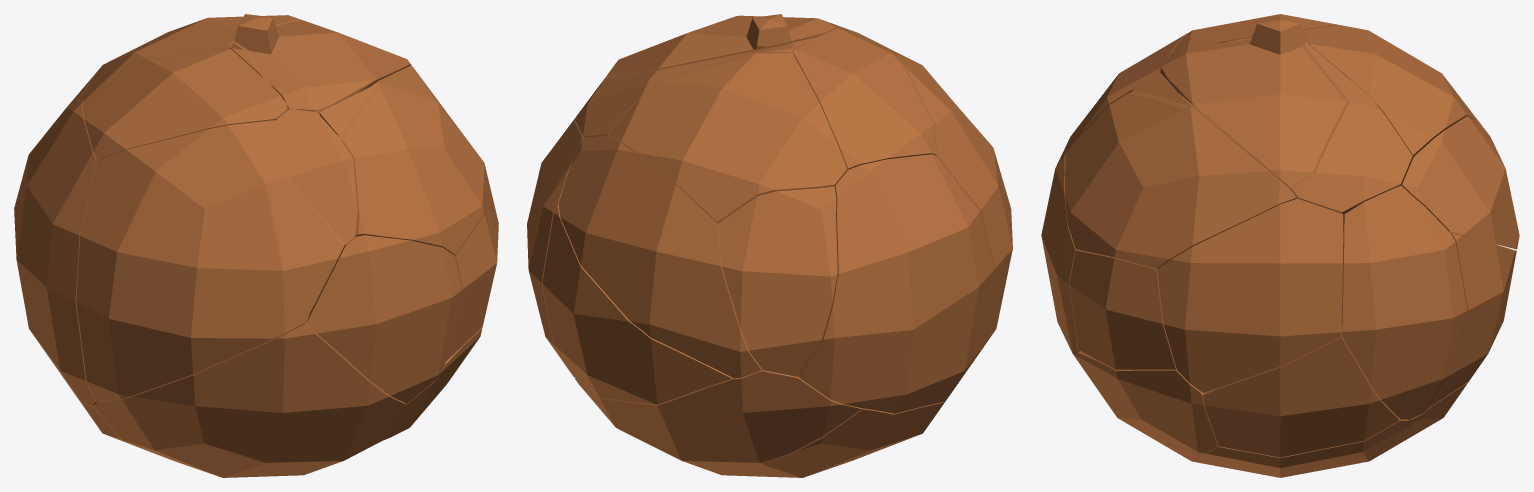
File: Orange.fbx
The picture shows the model from 3 angles, left to right: view 1: azimuth 30°, elevation 25°; view 2: azimuth 150°, elevation 25°; view 3: azimuth 270°, elevation 25°; orthographic projection.
Visible parts, largest first — view 1: Orange_cell.004, Orange_cell.019, Orange_cell.008, Orange_cell, Orange_cell.015, Orange_cell.011, Orange_cell.023, Orange_cell.005, Orange_cell.006, Orange_cell.016, Orange_cell.002, Orange_cell.013 (+2 smaller); view 2: Orange_cell.015, Orange_cell.012, Orange_cell.016, Orange_cell.024, Orange_cell.009, Orange_cell.017, Orange_cell.011, Orange_cell.004, Orange_cell.020, Orange_cell.023, Orange_cell.022, Orange_cell.018; view 3: Orange_cell.008, Orange_cell.003, Orange_cell.018, Orange_cell.023, Orange_cell.001, Orange_cell.006, Orange_cell.012, Orange_cell.022, Orange_cell.016, Orange_cell.002, Orange_cell.017, Orange_cell.021 (+6 smaller).
Part boxes in pixels (x1,y1,x2,y2): Orange_cell.004: [76, 120, 344, 401]; Orange_cell.019: [94, 314, 405, 477]; Orange_cell.008: [337, 65, 485, 255]; Orange_cell: [306, 235, 462, 403]; Orange_cell.015: [14, 100, 98, 406]; Orange_cell.011: [82, 48, 287, 160]; Orange_cell.023: [234, 14, 411, 114]; Orange_cell.005: [277, 109, 357, 244]; Orange_cell.006: [446, 194, 498, 360]; Orange_cell.016: [78, 15, 273, 101]; Orange_cell.002: [383, 327, 482, 440]; Orange_cell.013: [319, 83, 377, 136]; Orange_cell.015: [798, 154, 994, 413]; Orange_cell.012: [558, 135, 761, 377]; Orange_cell.016: [607, 52, 847, 224]; Orange_cell.024: [718, 186, 837, 376]; Orange_cell.009: [575, 369, 861, 468]; Orange_cell.017: [542, 205, 732, 404]; Orange_cell.011: [793, 28, 936, 170]; Orange_cell.004: [866, 40, 1012, 374]; Orange_cell.020: [704, 398, 946, 477]; Orange_cell.023: [606, 14, 840, 76]; Orange_cell.022: [575, 32, 826, 137]; Orange_cell.018: [527, 120, 583, 377]; Orange_cell.008: [1064, 91, 1296, 269]; Orange_cell.003: [1157, 198, 1343, 392]; Orange_cell.018: [1341, 185, 1467, 419]; Orange_cell.023: [1160, 14, 1346, 187]; Orange_cell.001: [1203, 323, 1399, 457]; Orange_cell.006: [1069, 250, 1176, 369]; Orange_cell.012: [1400, 116, 1519, 249]; Orange_cell.022: [1174, 37, 1412, 231]; Orange_cell.016: [1304, 24, 1472, 166]; Orange_cell.002: [1077, 351, 1217, 453]; Orange_cell.017: [1429, 231, 1516, 407]; Orange_cell.021: [1159, 418, 1409, 477].
Size of the model in its own units: 74.49 by 74.24 by 74.49.
